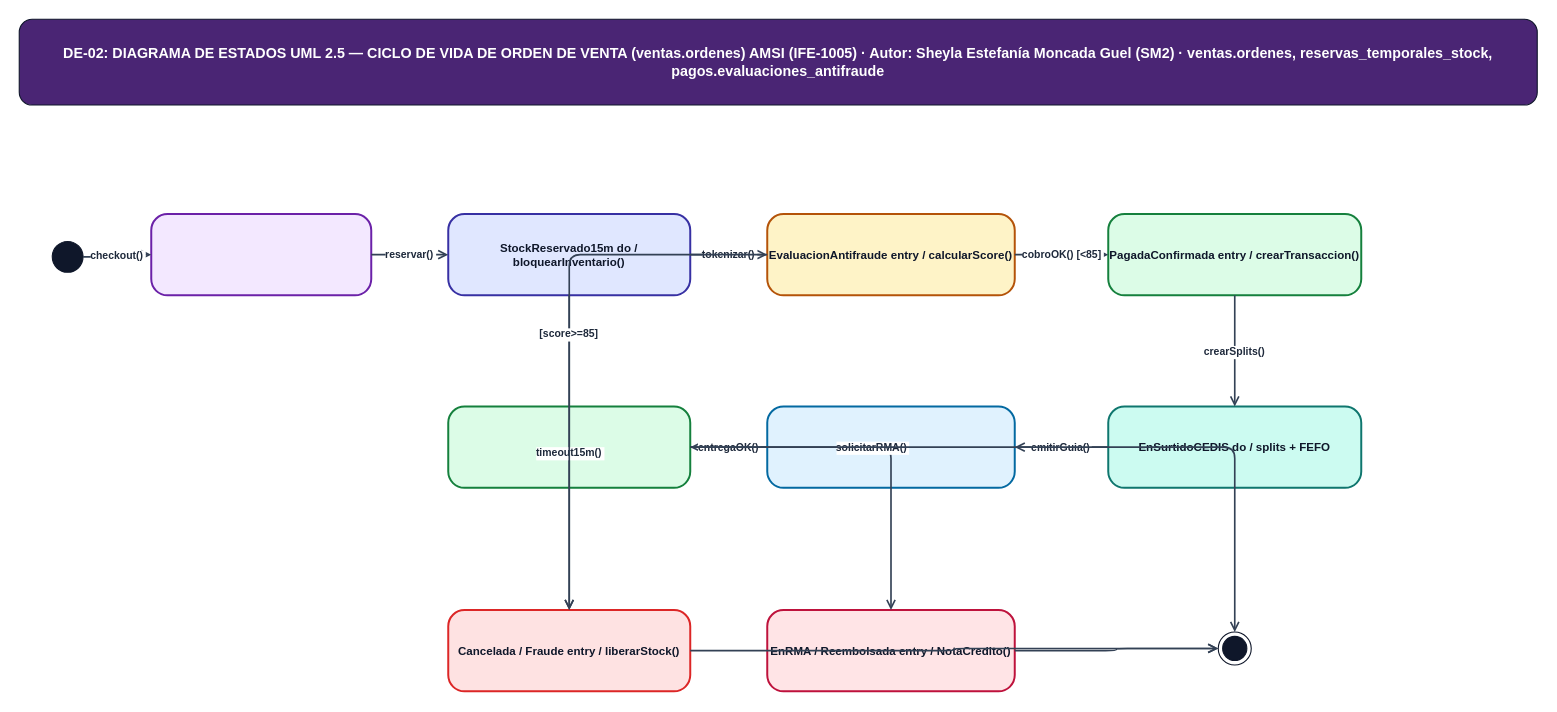
The diagram is 1557 pixels wide and 712 high, and some of its shapes have lost their labels. The shapes that lost their labels are listed below. From the top down, each one's box as (x1, y1, x2, y2) in pixels, then its label:
(150, 212, 372, 296): Creada entry / calcularTotales()
(447, 405, 691, 488): Entregada entry / registrarEntrega()
(766, 405, 1015, 488): EnTransito do / trackingWebhooks()
